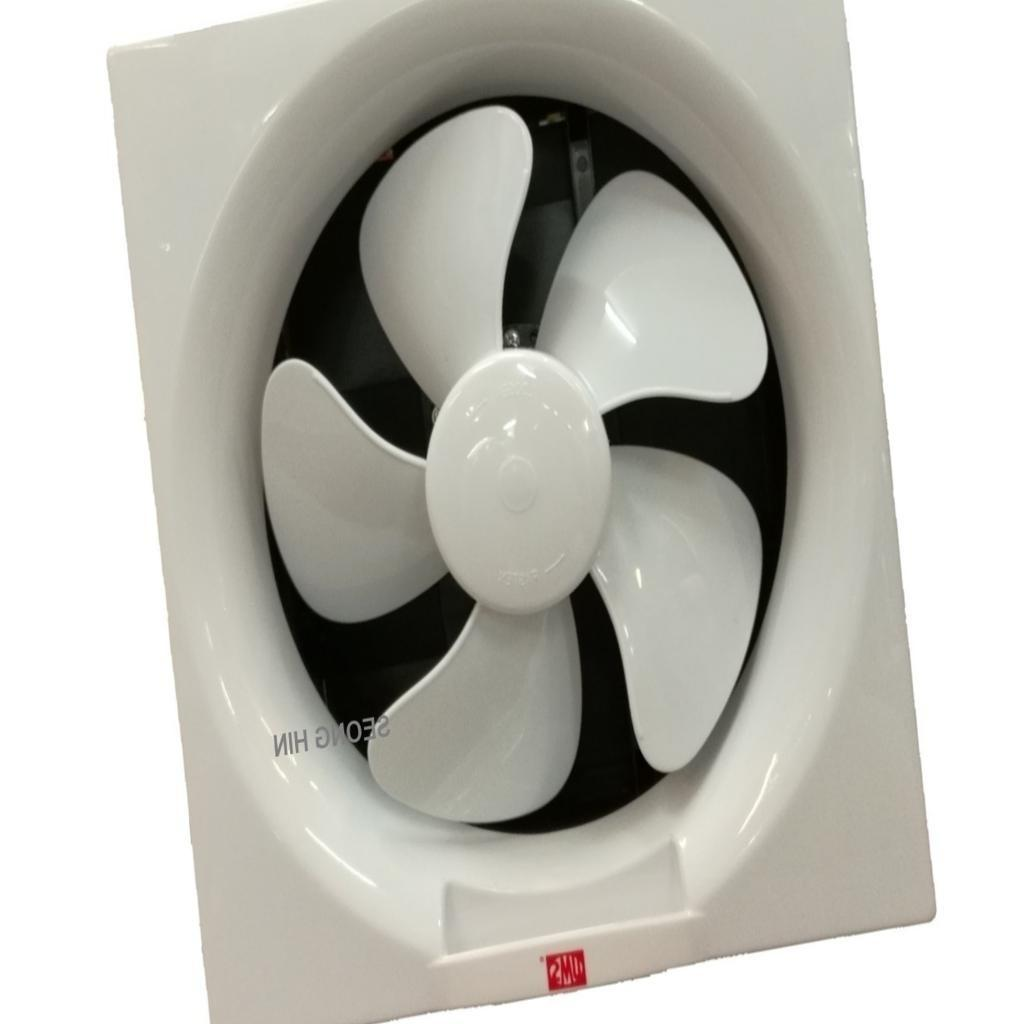fan: (117, 21, 924, 1024)
